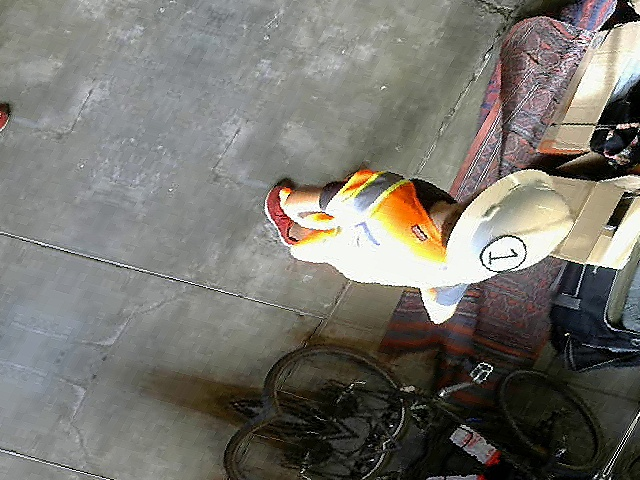one: (473, 230, 534, 276)
